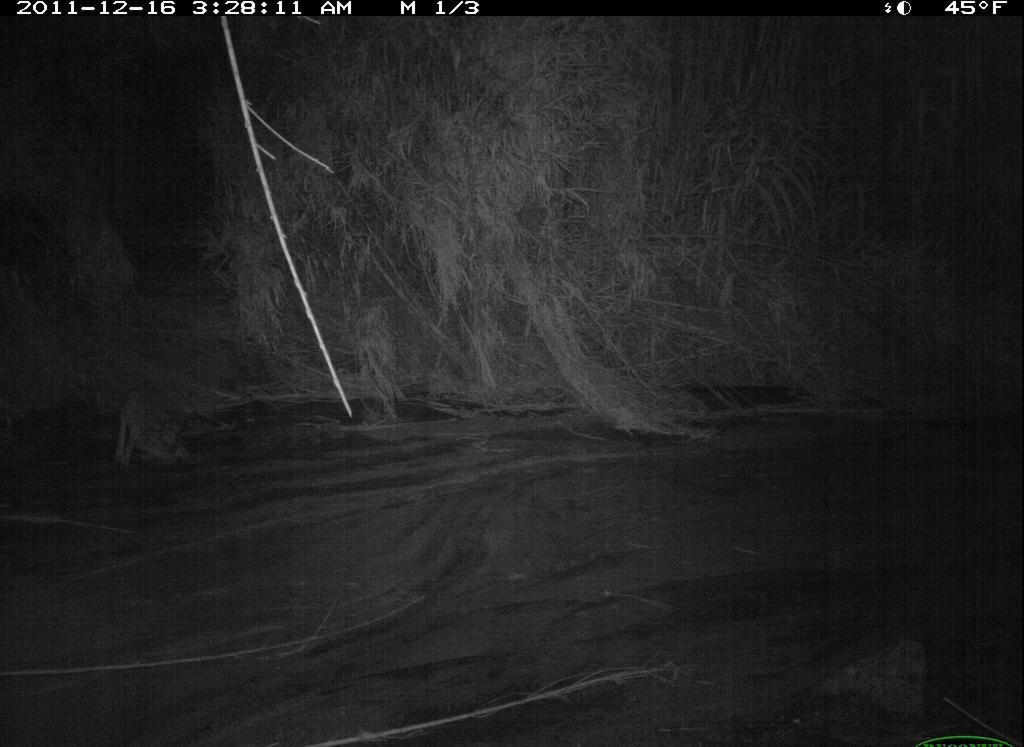coyote: (105, 369, 207, 475)
